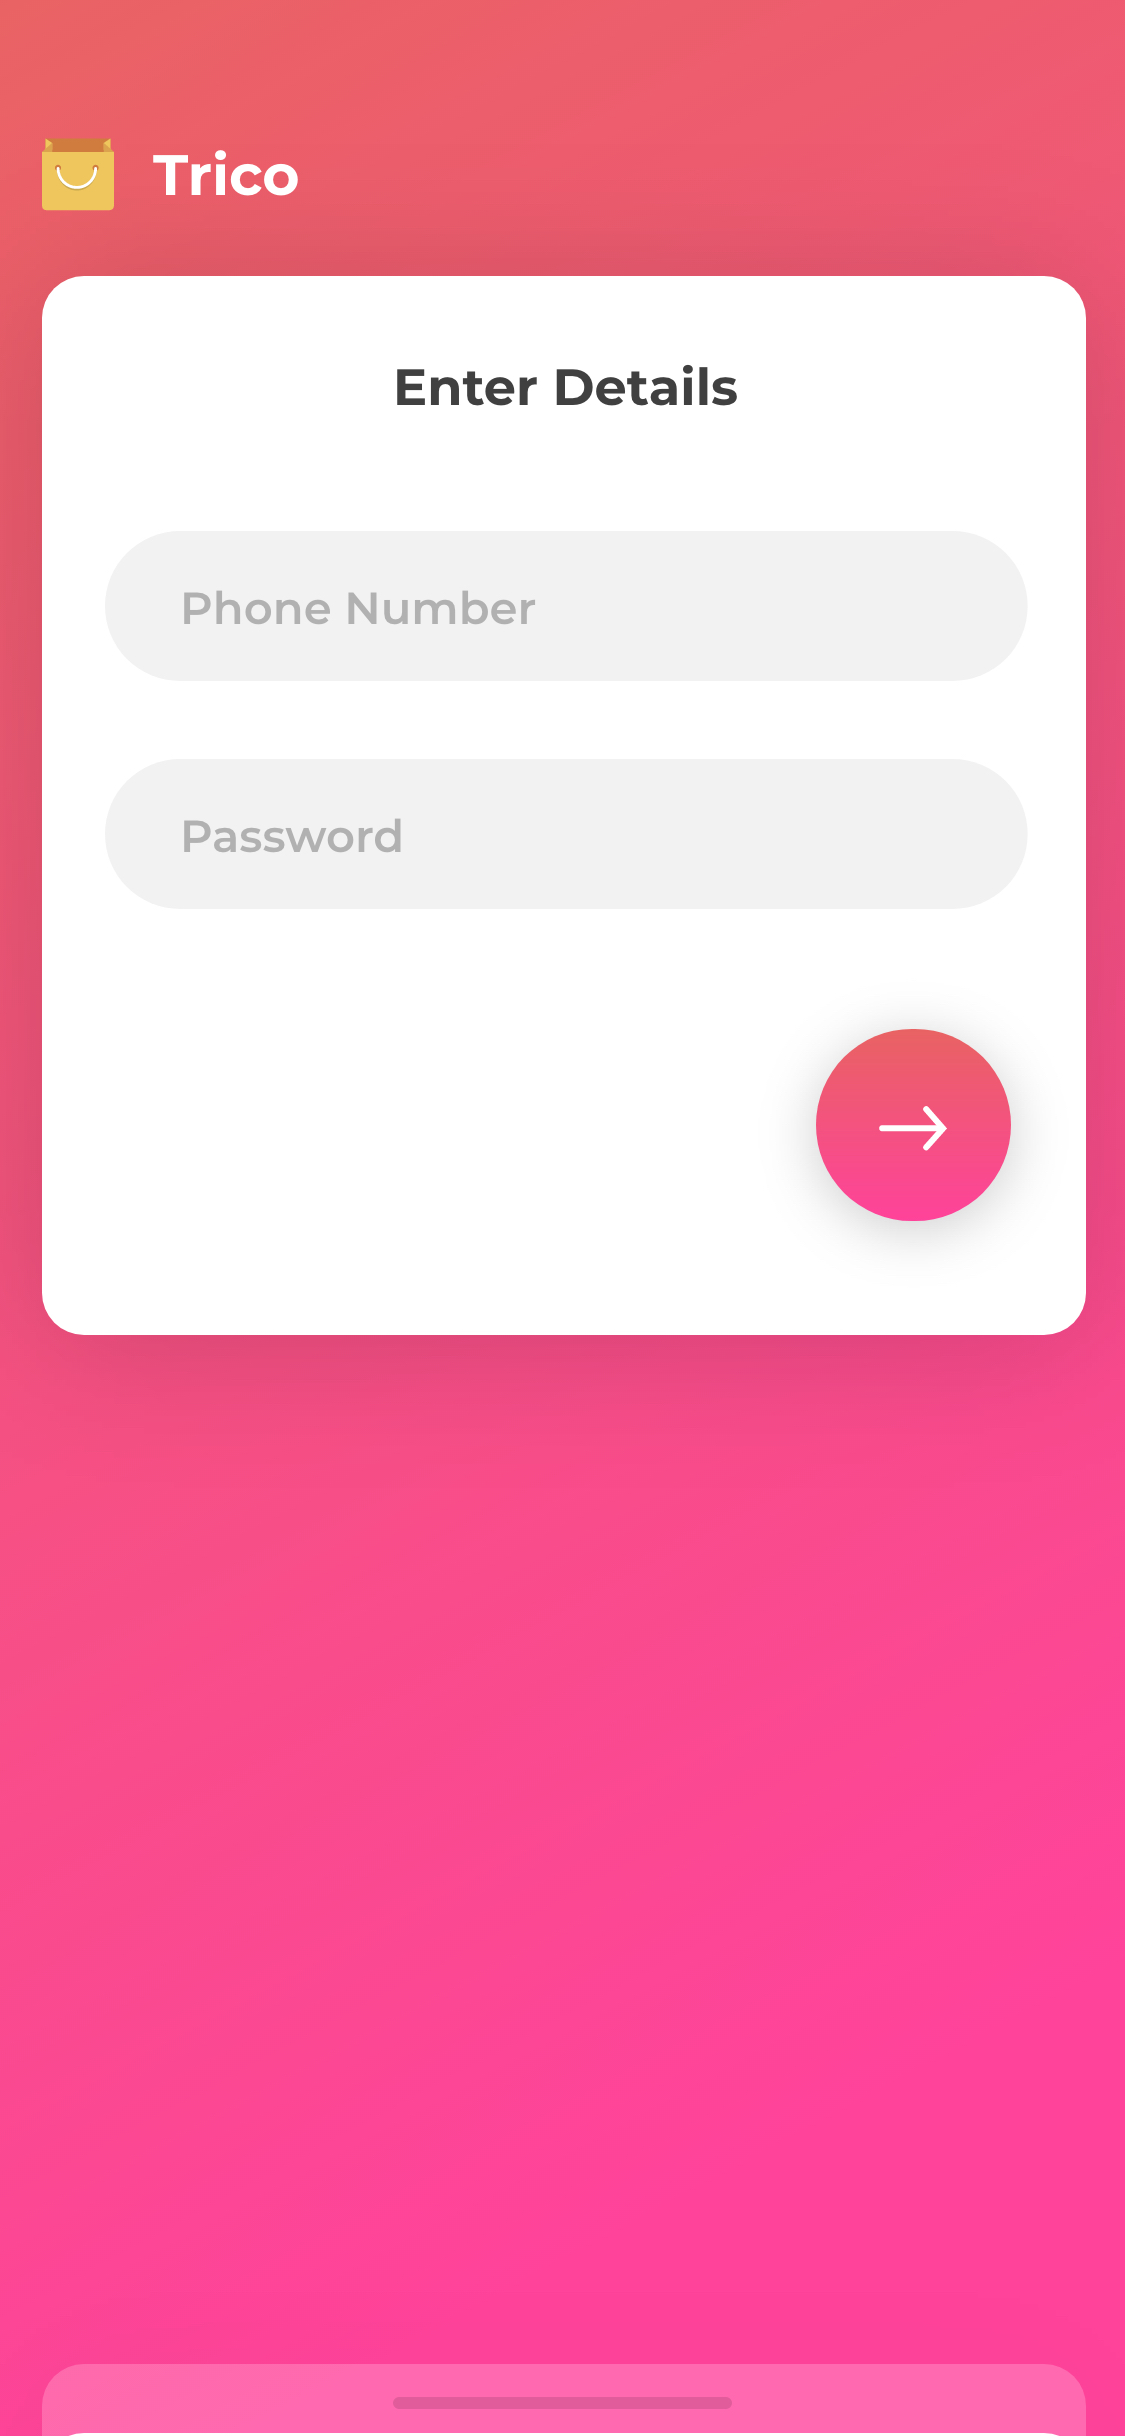EditText: (106, 531, 1029, 682), (106, 760, 1029, 910)
Icon: (814, 1028, 1012, 1223)
Image: (42, 138, 117, 211)
Text: (396, 365, 738, 409), (183, 590, 536, 626), (183, 819, 402, 854), (152, 151, 300, 197)
